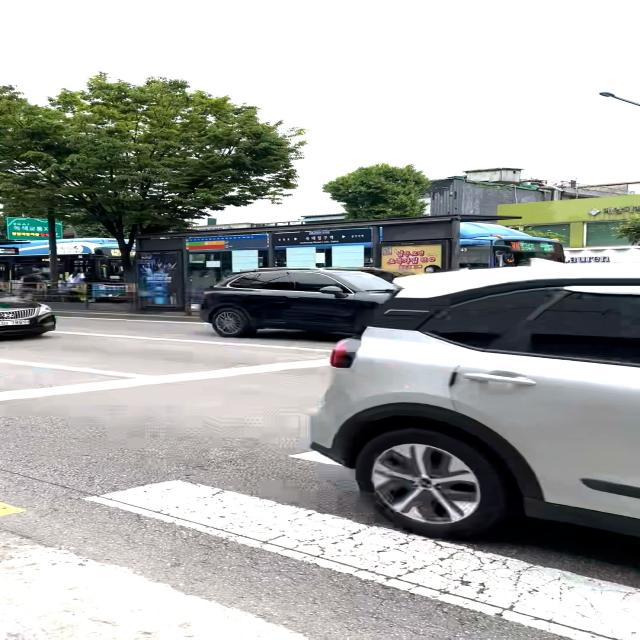building: (469, 190, 640, 263)
car: (307, 276, 639, 539), (198, 266, 403, 338), (0, 295, 56, 338)
